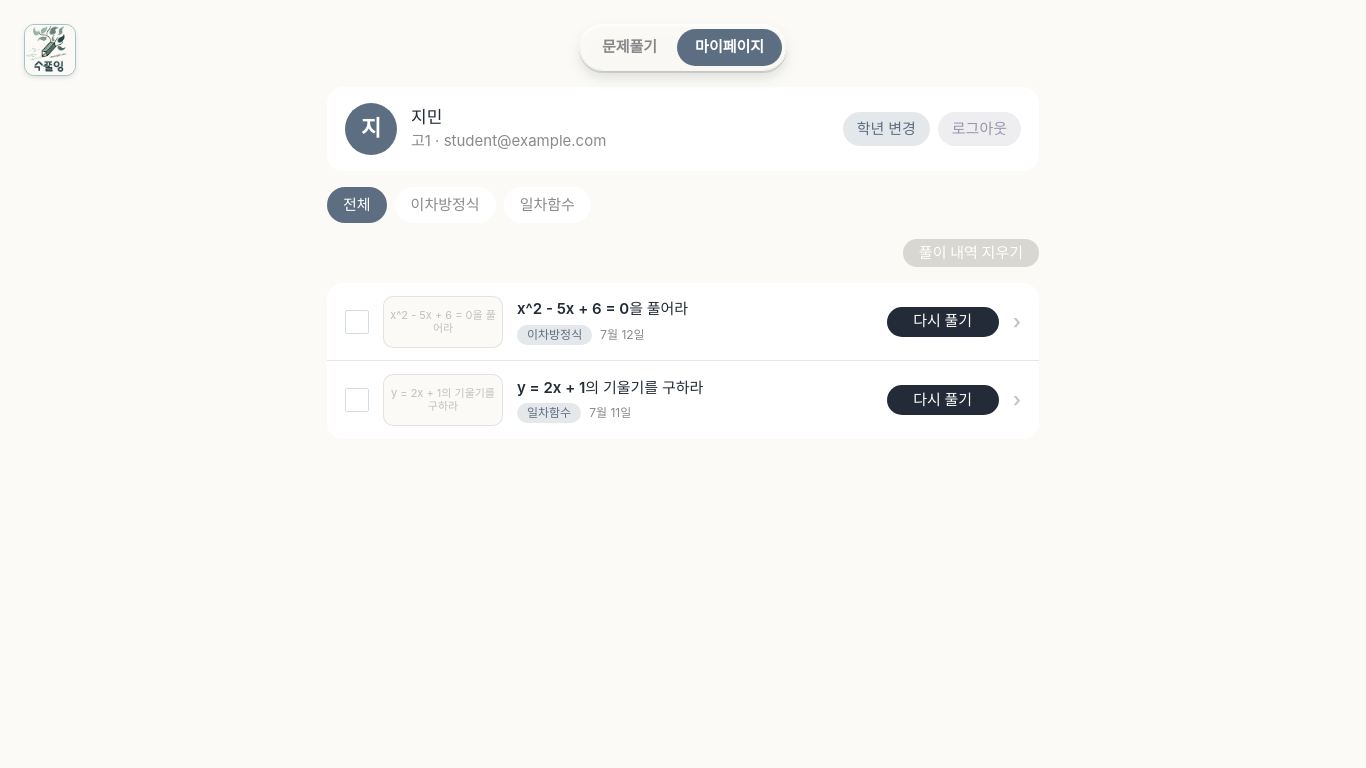
Scenario: MyPage — 마이페이지 개선 3번(체크박스 일괄 삭제) › 체크박스를 선택하면 버튼이 활성화되고, 클릭하면 확인 모달이 뜬다
Click the checkbox named "x^2 - 5x + 6 = 0을 풀어라 선택".
click(357, 322)  # box top-left (345, 310), bottom-right (369, 334)
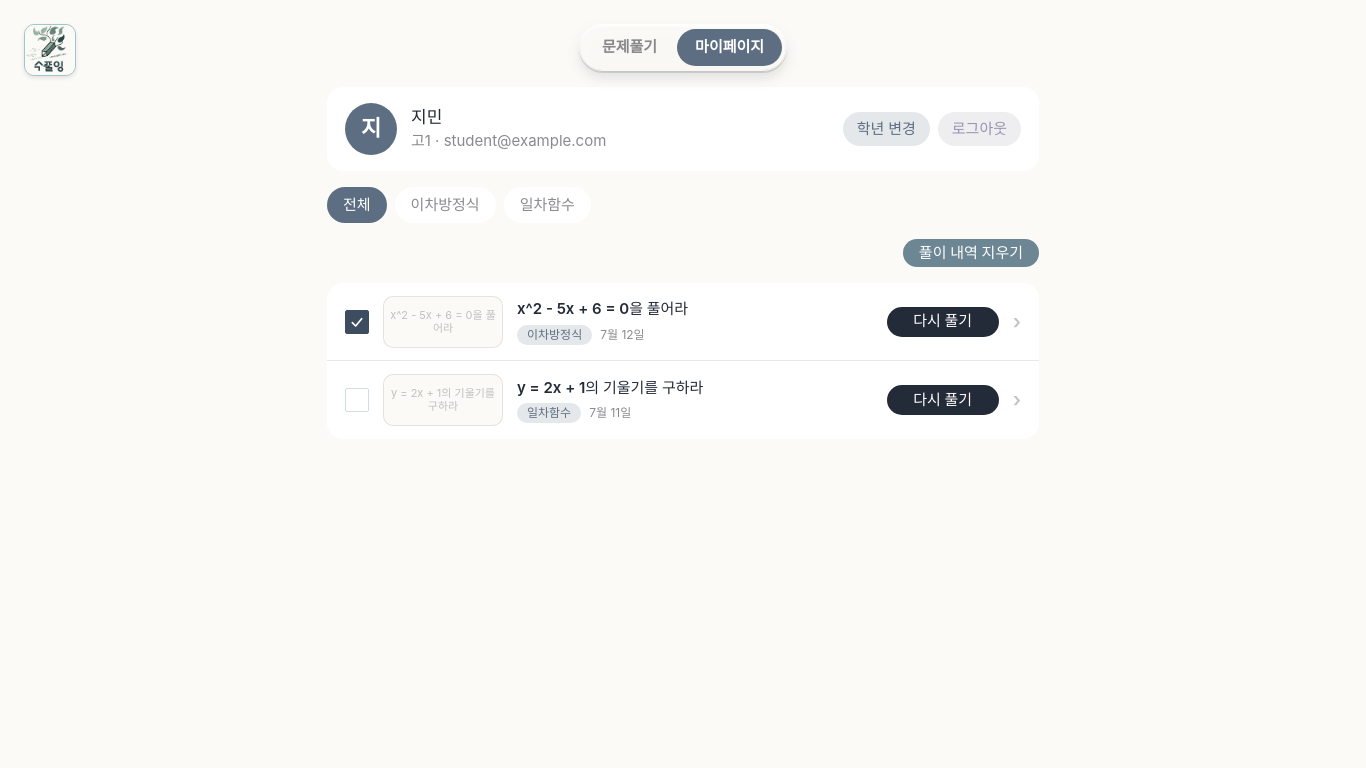
Result: the button "풀이 내역 지우기" is enabled
Click the button "풀이 내역 지우기".
click(971, 253)  # box top-left (903, 239), bottom-right (1039, 267)
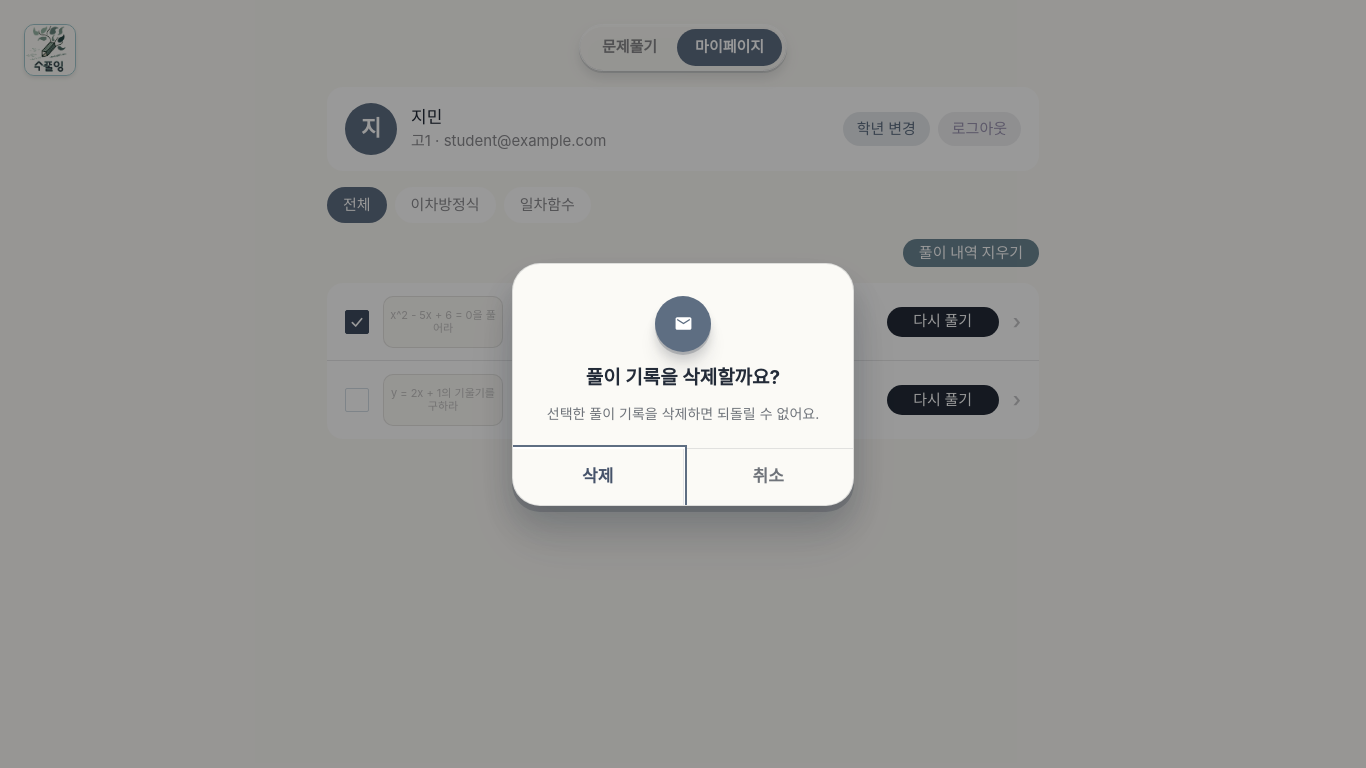
Result: the dialog is shown at top-left (512, 262), bottom-right (854, 506)
Result: the heading "풀이 기록을 삭제할까요?" is shown at top-left (586, 364), bottom-right (780, 392)
